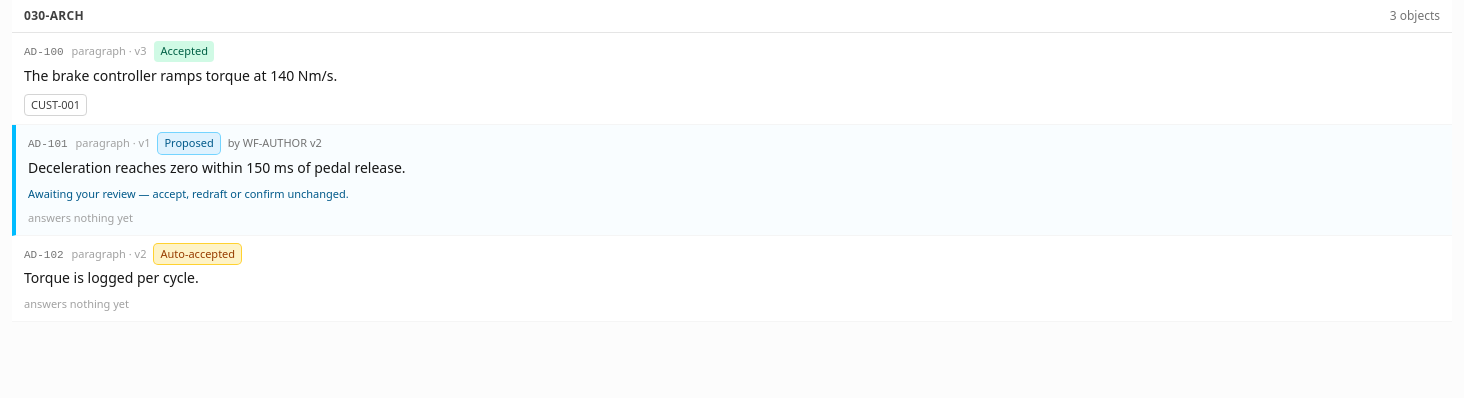
Test case: in-place link expansion (R-500-017) › expands within the object row, with no dialog
The image size is (1464, 398).
Click the button with test id "link-AD-100-CUST-001" at (56, 105), box [24,94,87,116]
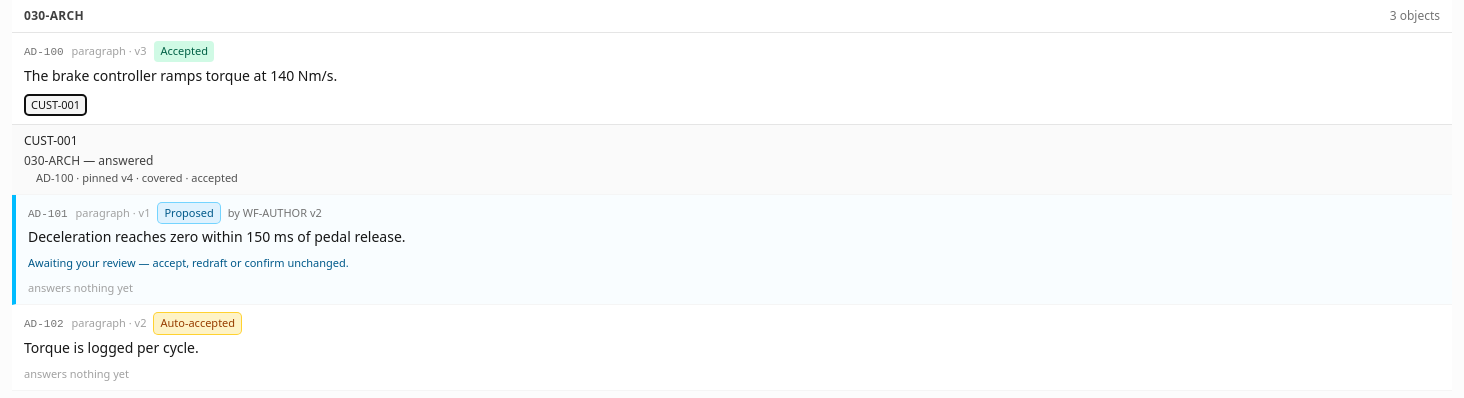
Expected: the element with test id "expansion-CUST-001" is shown, [12,124,1452,194]
